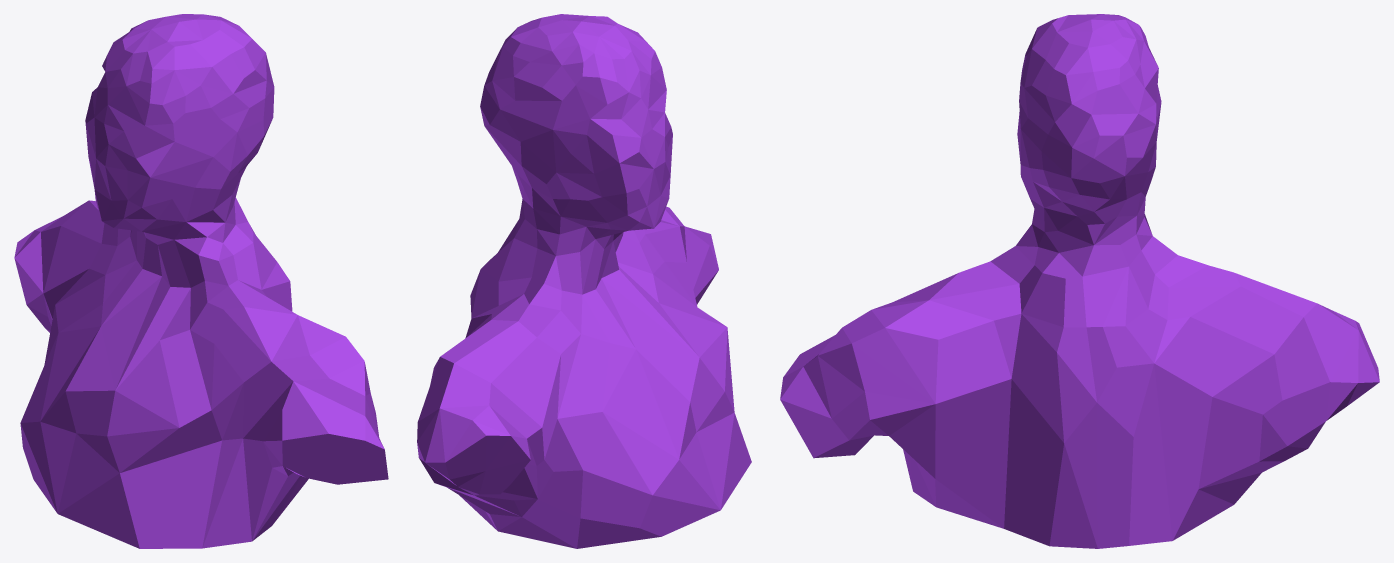
Rendered from Statue.003.fbx.
The picture shows the model from 3 angles, left to right: view 1: azimuth 30°, elevation 25°; view 2: azimuth 150°, elevation 25°; view 3: azimuth 270°, elevation 25°; orthographic projection. The views are drawn at different scales.
Visible parts, largest first — view 1: Statue.003; view 2: Statue.003; view 3: Statue.003.
Part boxes in pixels (x1=…): Statue.003: x1=14, y1=14, x2=388, y2=548; Statue.003: x1=417, y1=14, x2=751, y2=548; Statue.003: x1=780, y1=14, x2=1379, y2=548.
Bounding box in the file's own units: 183 × 342 × 389.
